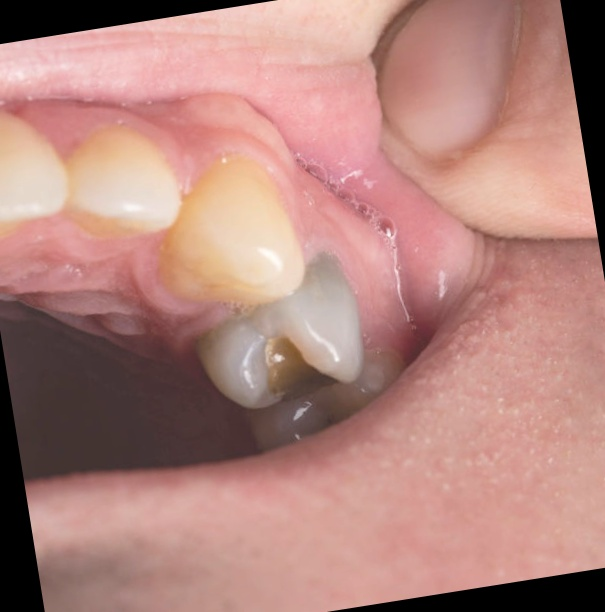Caries: (226, 315, 374, 411)
